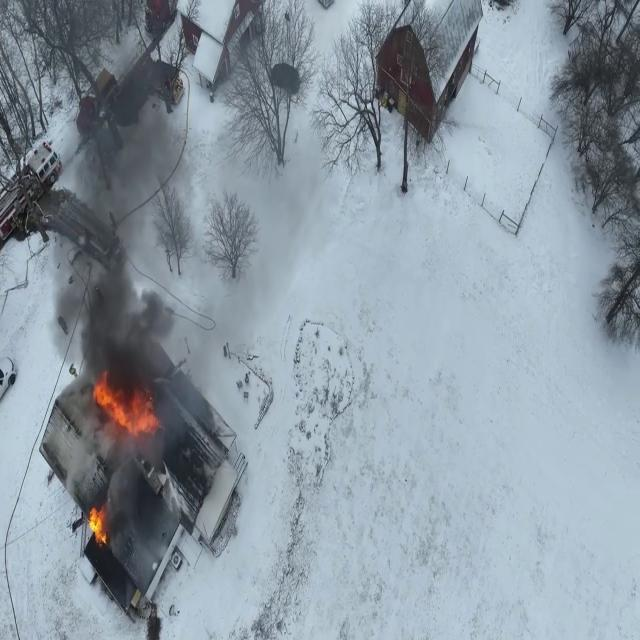Fire: (89, 372, 163, 440), (86, 500, 108, 546)
Smoke: (40, 37, 212, 350)
